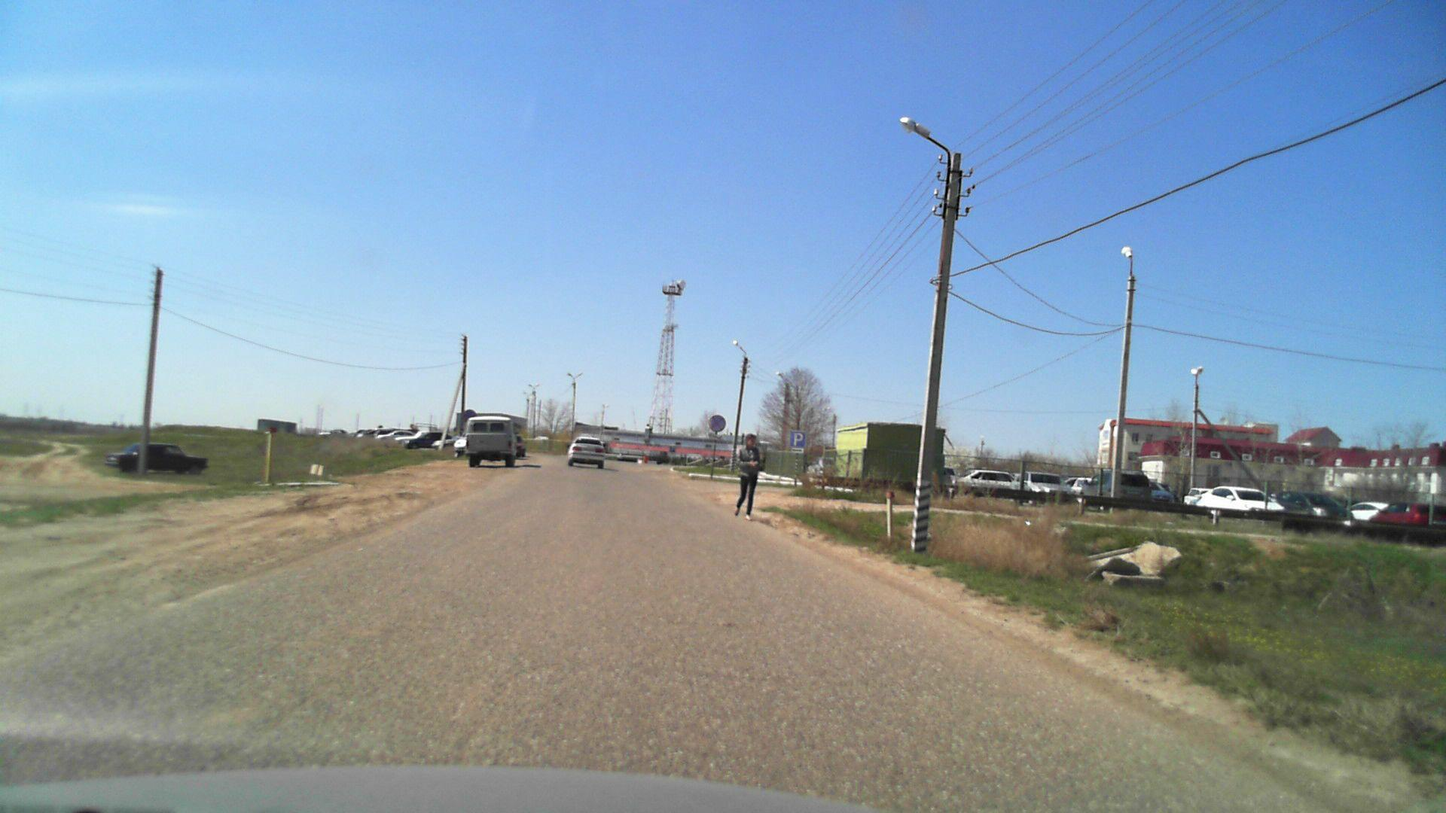road_sign: (791, 432, 806, 449)
